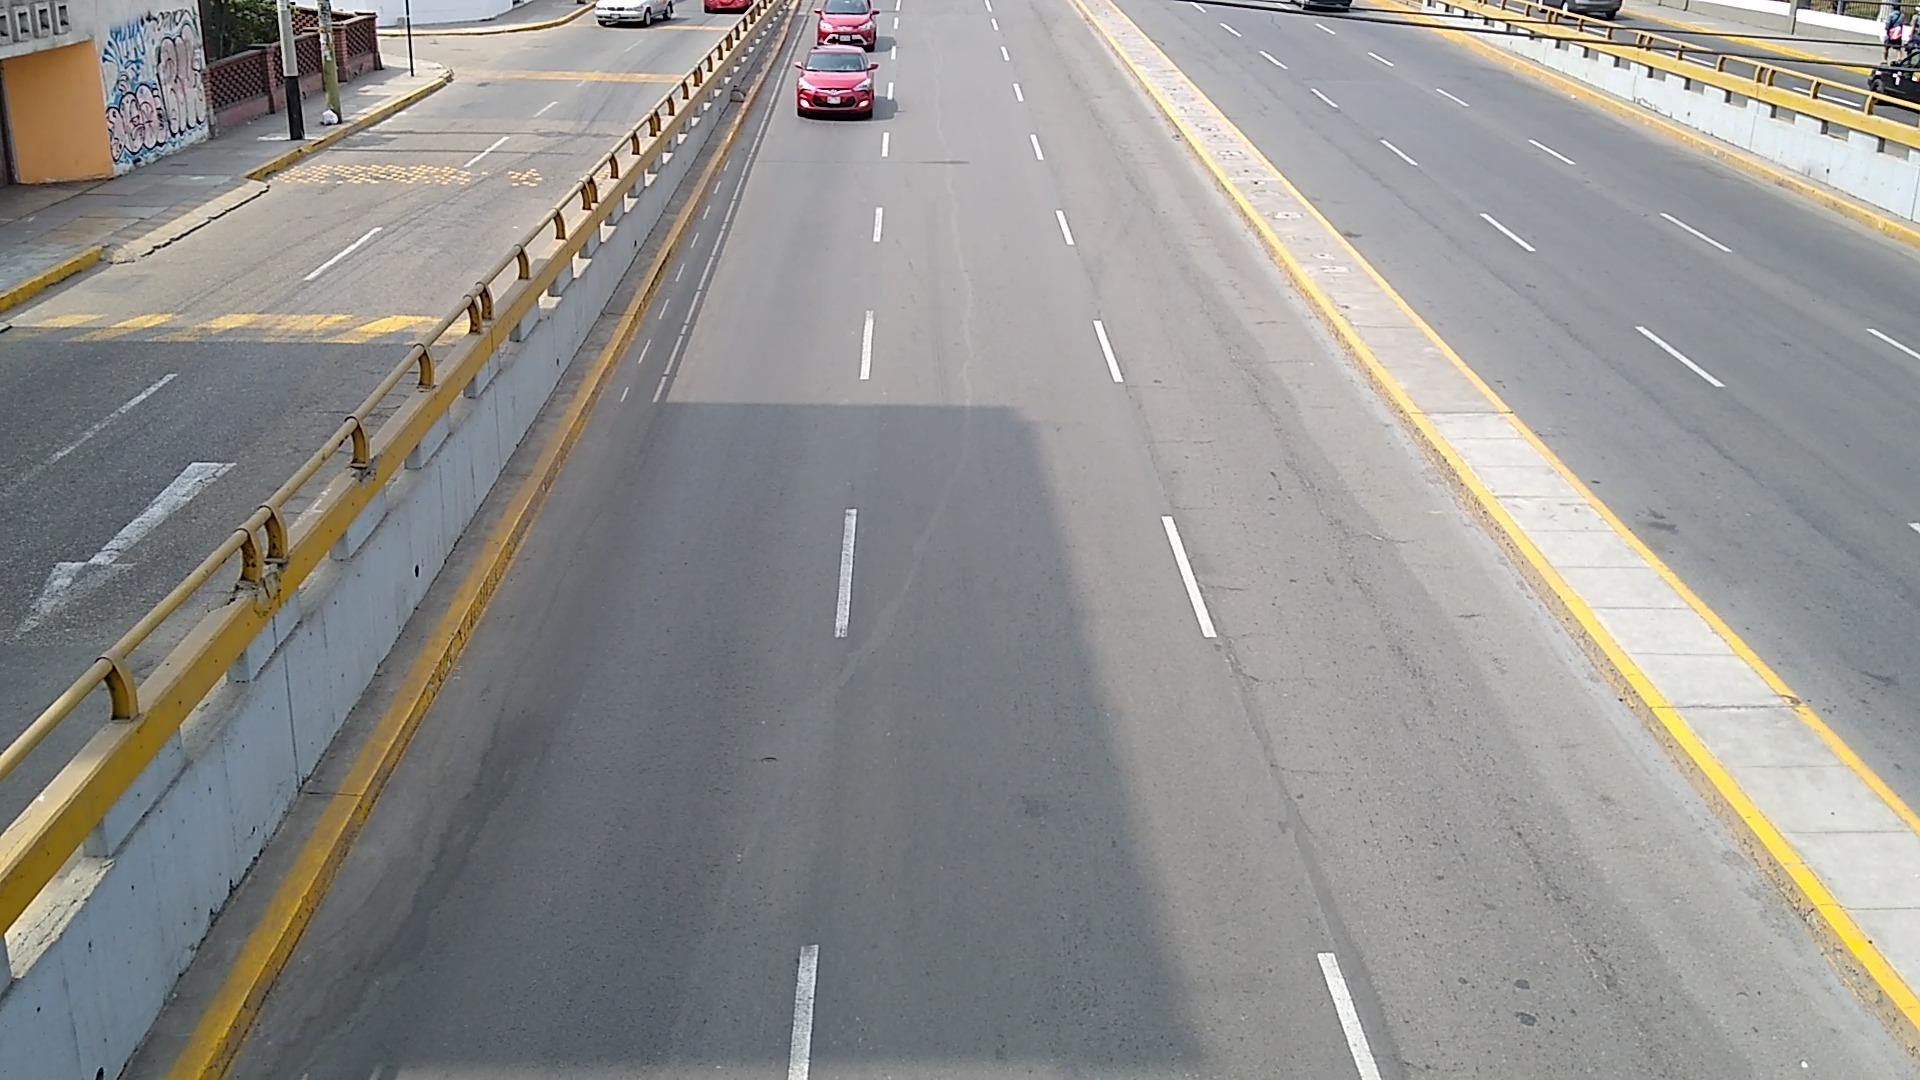car: (795, 49, 877, 116), (818, 0, 877, 47), (1867, 63, 1920, 105), (596, 0, 675, 26), (1560, 0, 1623, 22), (702, 0, 754, 15)
